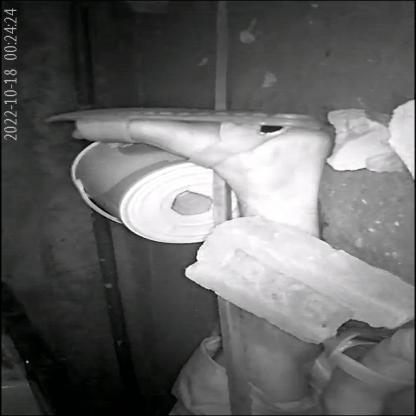leg: (30, 97, 351, 238)
